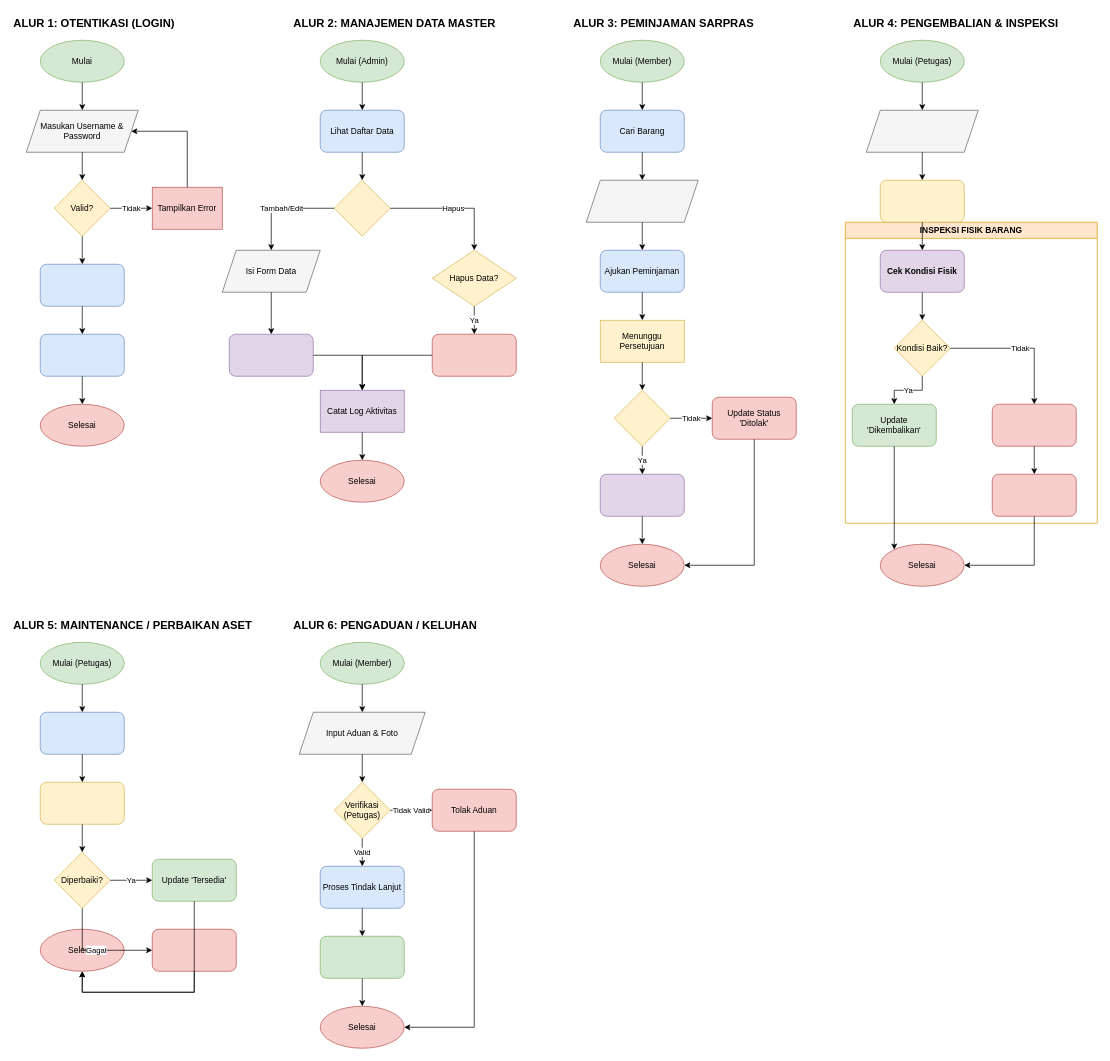
Image size: 1110x1061. Some labels were removed from this diagram. Each missing label, with the box of its shape:
Cek Hak Akses: (40, 264, 124, 306)
Cek Keterlambatan: (880, 180, 964, 222)
Dashboard: (40, 334, 124, 376)
Disetujui?: (614, 390, 670, 446)
Eksekusi Hapus: (432, 334, 516, 376)
Foto & Catat Kerusakan: (992, 404, 1076, 446)
Hapus Aset (Write-off): (152, 929, 236, 971)
Lihat Barang Rusak: (40, 712, 124, 754)
Pilih Aksi?: (334, 180, 390, 236)
Pilih Barang & Tanggal: (586, 180, 698, 222)
Proses Perbaikan: (40, 782, 124, 824)
Scan QR / Input ID: (866, 110, 978, 152)
Set Status 'Rusak': (992, 474, 1076, 516)
Simpan ke DB: (229, 334, 313, 376)
Update Status 'Selesai': (320, 936, 404, 978)
Update Stok Barang: (600, 474, 684, 516)
